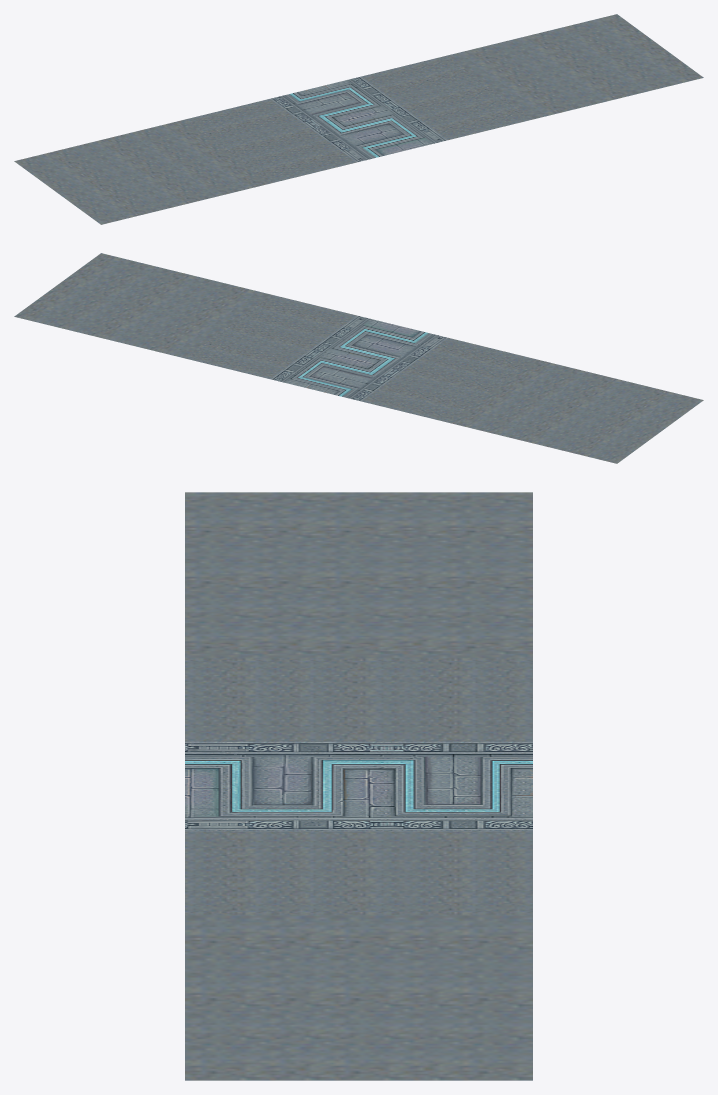
The model's file is FB_boss_dibiao.FBX.
3 views of the same model, one above another, from view 1: azimuth 30°, elevation 25°; view 2: azimuth 150°, elevation 25°; view 3: azimuth 270°, elevation 25° (orthographic). The views are drawn at different scales.
Parts seen in each view (by area): view 1: Object01; view 2: Object01; view 3: Object01.
Part boxes in pixels (x1,y1,x2,y2): Object01: (14, 14, 703, 224); Object01: (14, 253, 703, 463); Object01: (185, 492, 532, 1080).
Bounding box in the file's own units: 80.02 × 6.51e-06 × 20.
